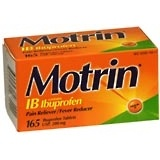grozi_18: (2, 27, 160, 132)
